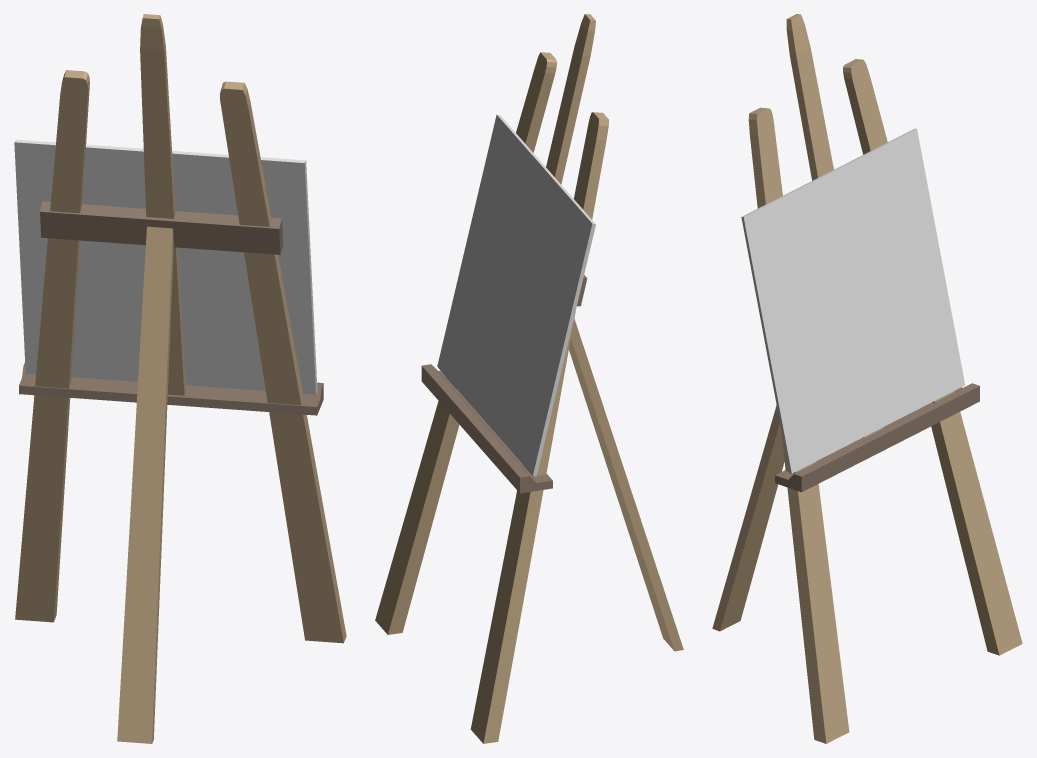
The model's file is canvas.glb.
3 renders of one model, left to right at view 1: azimuth 30°, elevation 25°; view 2: azimuth 150°, elevation 25°; view 3: azimuth 270°, elevation 25°, orthographic. The views are drawn at different scales.
Parts seen in each view (by area): view 1: canvas_legs, canvas.001, canvas_holder; view 2: canvas.001, canvas_legs, canvas_holder; view 3: canvas.001, canvas_legs, canvas_holder.
Boxes of the visible parts, x1=… form: canvas_legs: x1=15, y1=14, x2=346, y2=743; canvas.001: x1=14, y1=139, x2=317, y2=394; canvas_holder: x1=19, y1=201, x2=323, y2=415; canvas.001: x1=437, y1=114, x2=595, y2=476; canvas_legs: x1=375, y1=14, x2=683, y2=743; canvas_holder: x1=421, y1=275, x2=587, y2=493; canvas.001: x1=741, y1=128, x2=964, y2=473; canvas_legs: x1=712, y1=14, x2=1022, y2=743; canvas_holder: x1=775, y1=383, x2=979, y2=492.
Size of the model in its own units: 2.43 by 5.6 by 2.49.
